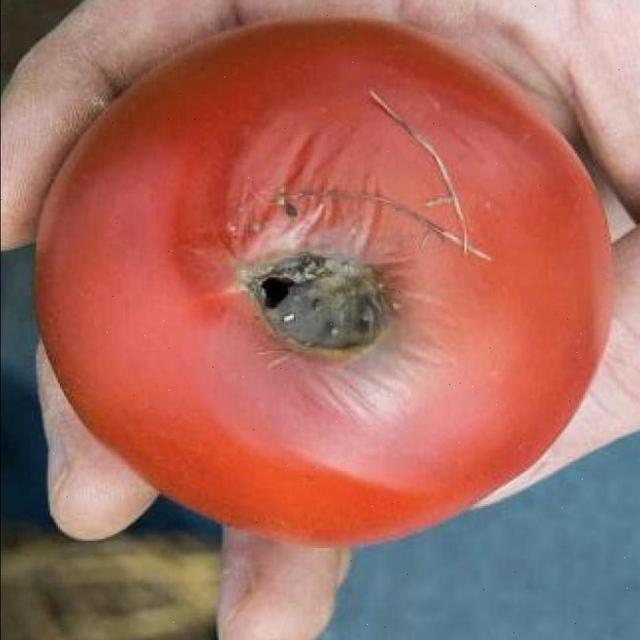Blossom End Rot Fruit: (153, 159, 280, 250)
